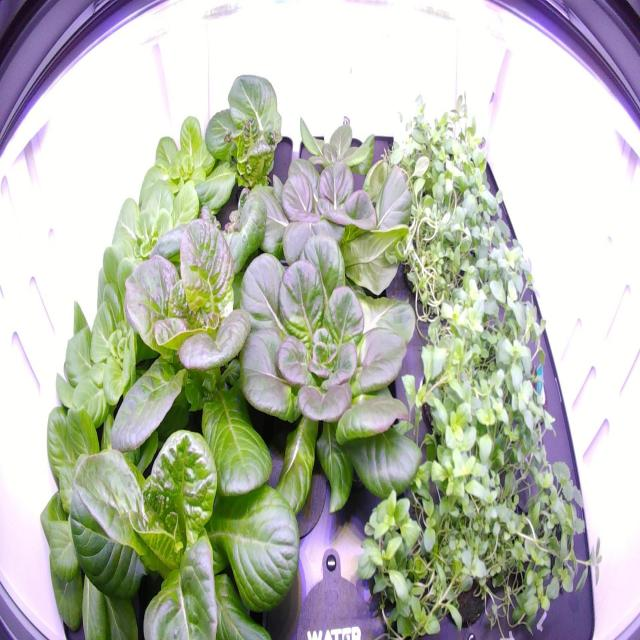young: (65, 363, 311, 639), (222, 230, 436, 539), (111, 190, 286, 501), (26, 383, 202, 638), (227, 137, 424, 329), (44, 240, 188, 472), (186, 58, 294, 243), (94, 157, 210, 321), (128, 95, 244, 249), (284, 101, 384, 202)
